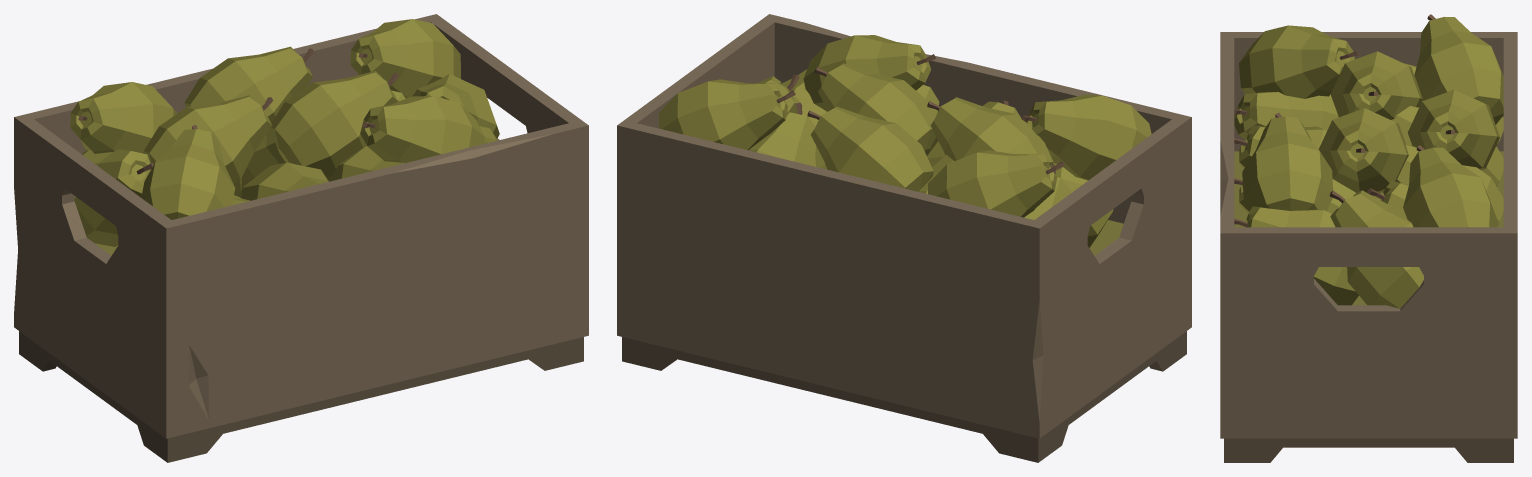
Rendered from SM_Props_Farm_Crate_Filled_Guava.fbx.
3 views of the same model, side by side, from view 1: azimuth 30°, elevation 25°; view 2: azimuth 150°, elevation 25°; view 3: azimuth 270°, elevation 25° (orthographic). The views are drawn at different scales.
Parts seen in each view (by area): view 1: SM_Props_Farm_Crate_Filled_Guava; view 2: SM_Props_Farm_Crate_Filled_Guava; view 3: SM_Props_Farm_Crate_Filled_Guava.
Boxes of the visible parts, bbox=[...] form: SM_Props_Farm_Crate_Filled_Guava: bbox=[14, 14, 588, 462]; SM_Props_Farm_Crate_Filled_Guava: bbox=[617, 14, 1191, 462]; SM_Props_Farm_Crate_Filled_Guava: bbox=[1220, 14, 1517, 462].
Bounding box in the file's own units: 101 × 62.2 × 63.
